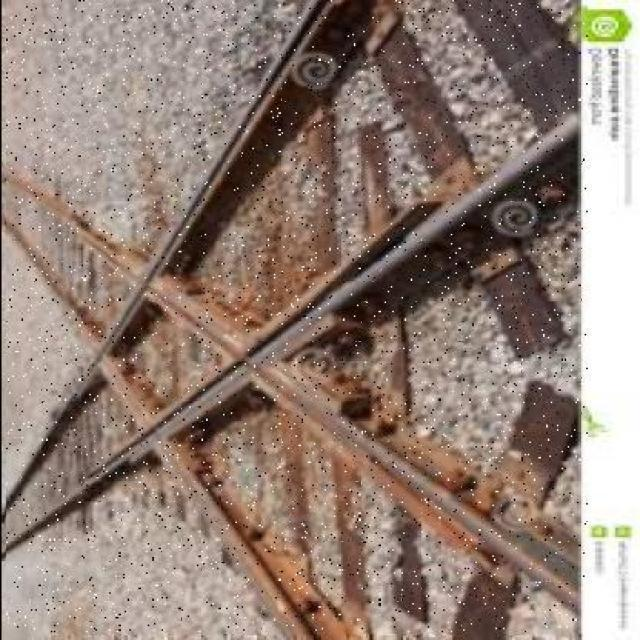rail: (7, 2, 587, 633)
